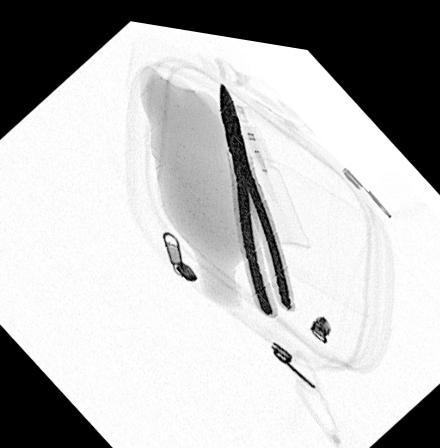Pliers: (216, 69, 296, 308)
